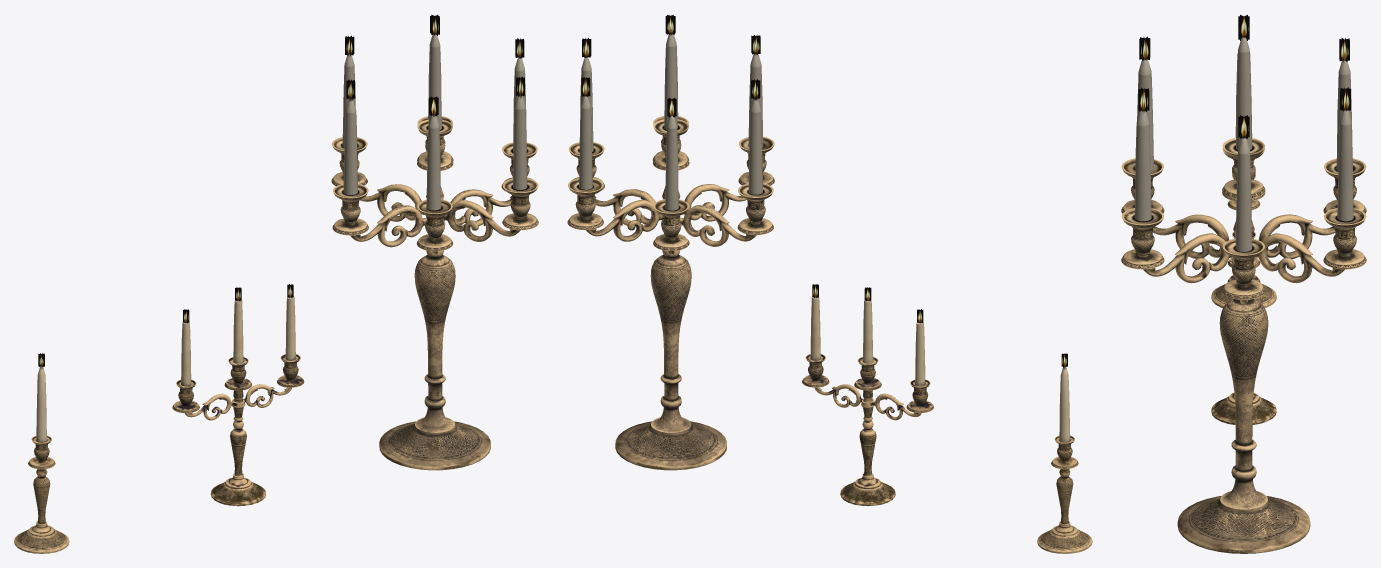
The model's file is polyhaven-brass-candleholders.glb.
3 views of the same model, side by side, from view 1: azimuth 30°, elevation 25°; view 2: azimuth 150°, elevation 25°; view 3: azimuth 270°, elevation 25° (orthographic). The views are drawn at different scales.
Parts seen in each view (by area): view 1: brass_candleholder_03, brass_candleholder_02, brass_candleholder_01; view 2: brass_candleholder_03, brass_candleholder_02, brass_candleholder_01; view 3: brass_candleholder_03, brass_candleholder_02, brass_candleholder_01.
Part boxes in pixels (x1=…): brass_candleholder_03: x1=331, y1=14, x2=538, y2=470; brass_candleholder_02: x1=172, y1=284, x2=304, y2=506; brass_candleholder_01: x1=14, y1=353, x2=69, y2=553; brass_candleholder_03: x1=567, y1=14, x2=774, y2=470; brass_candleholder_02: x1=802, y1=284, x2=933, y2=505; brass_candleholder_01: x1=1037, y1=353, x2=1092, y2=553; brass_candleholder_03: x1=1121, y1=15, x2=1366, y2=553; brass_candleholder_02: x1=1211, y1=232, x2=1276, y2=424; brass_candleholder_01: x1=1211, y1=174, x2=1276, y2=307.
Size of the model in its own units: 1.05 by 0.8353 by 0.3646.
Materials: 5 (5 with a texture image).
